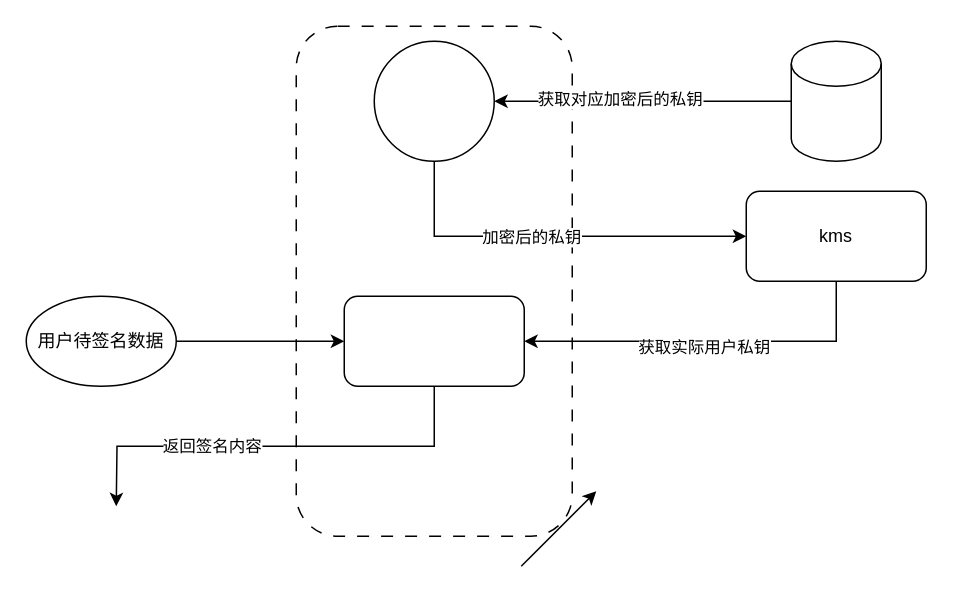
Image size: 953x605. Some labels were removed from this diagram. Each missing label, with the centre of its shape:
存储加密过的私钥: point 835,100
签名: point 433,340
